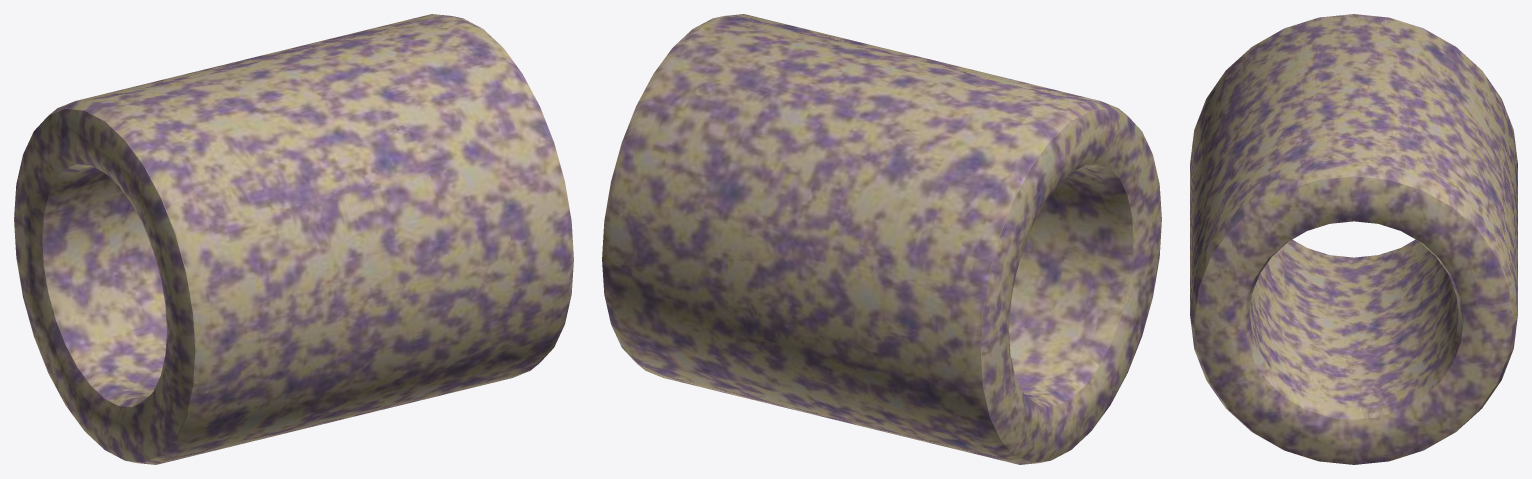
File: att_choke.glb
3 views of the same model, side by side, from view 1: azimuth 30°, elevation 25°; view 2: azimuth 150°, elevation 25°; view 3: azimuth 270°, elevation 25° (orthographic). The views are drawn at different scales.
Parts seen in each view (by area): view 1: choke; view 2: choke; view 3: choke.
Part boxes in pixels (bbox=[...]): choke: bbox=[14, 14, 573, 464]; choke: bbox=[602, 14, 1161, 464]; choke: bbox=[1190, 14, 1517, 464].
Size of the model in its own units: 0.03 by 0.025 by 0.025.
1 material, 1 textured.
